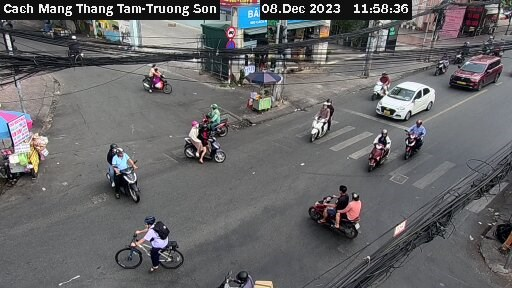car: (381, 79, 437, 127), (450, 51, 500, 92)
motorbike: (83, 143, 145, 203), (312, 178, 367, 235), (170, 126, 231, 169), (309, 91, 351, 142), (127, 63, 181, 98), (209, 257, 267, 288), (193, 98, 240, 131), (398, 122, 437, 158), (356, 124, 391, 164), (366, 68, 398, 98), (431, 52, 454, 77)
